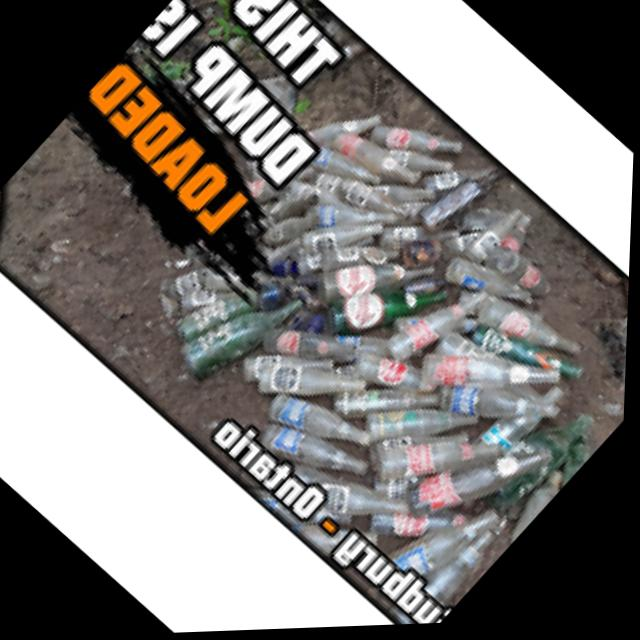glass_beverage_bottles: (413, 299, 570, 454), (405, 403, 557, 560), (314, 239, 463, 389), (372, 388, 515, 532), (302, 212, 441, 353), (170, 263, 306, 404), (438, 341, 569, 470), (467, 293, 596, 418), (249, 325, 375, 449), (484, 398, 603, 523), (366, 364, 486, 484), (170, 252, 287, 372), (392, 481, 508, 600), (260, 399, 379, 514), (264, 371, 382, 485), (471, 276, 587, 388), (363, 96, 466, 196), (442, 237, 544, 336), (295, 78, 393, 177), (386, 276, 482, 375), (413, 155, 504, 250), (536, 415, 616, 499), (501, 467, 577, 548), (493, 245, 563, 312)
